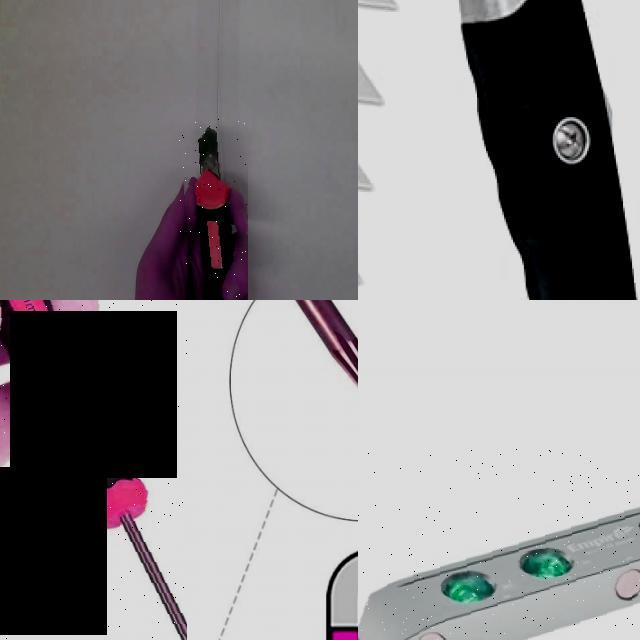estilete: (194, 127, 232, 298)
